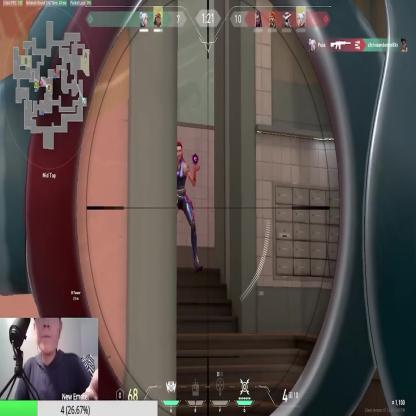enemy: (166, 140, 202, 271)
enemy_head: (175, 141, 183, 162)
